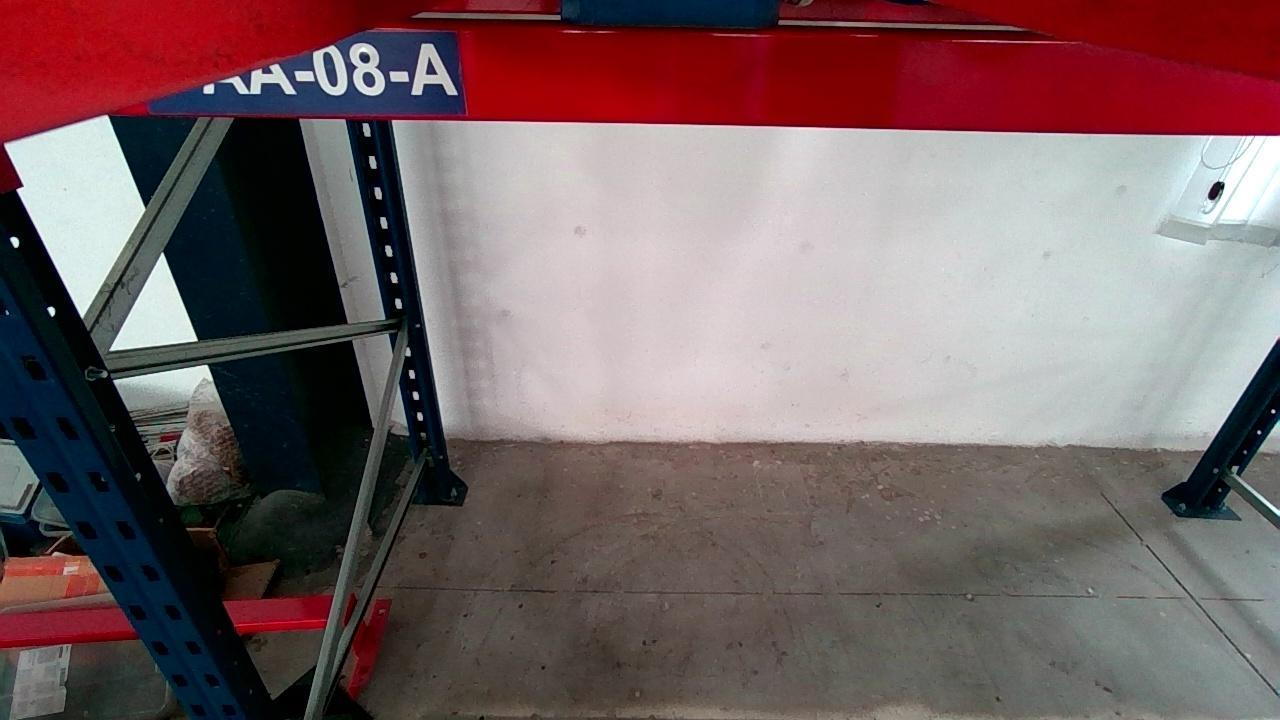h_rack: (112, 30, 1280, 134)
